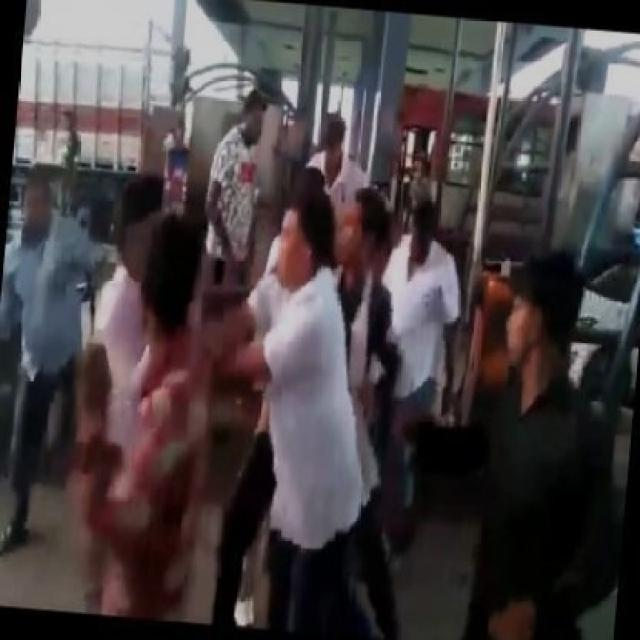fight: (85, 185, 378, 637)
non-fight: (481, 256, 640, 638), (370, 202, 462, 539)
